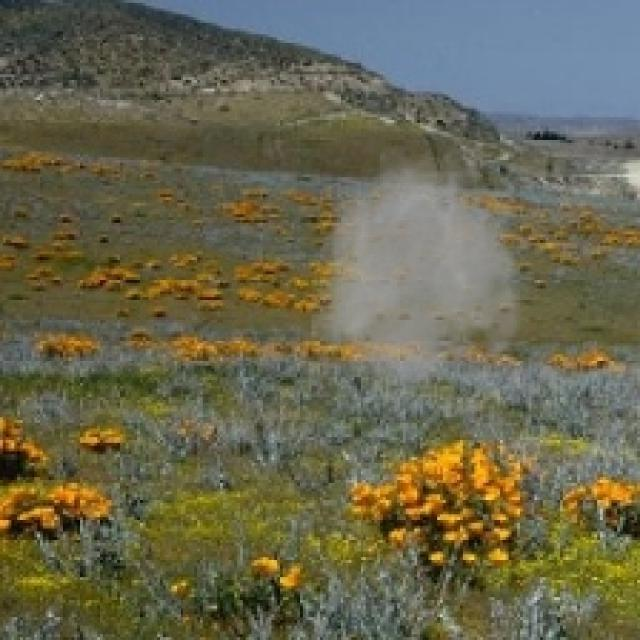smoke: (311, 140, 540, 397)
